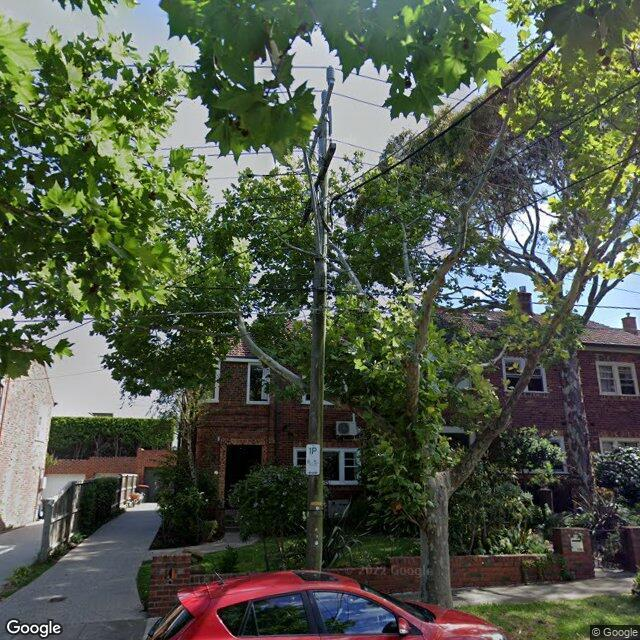HV-transmission: (322, 66, 334, 107)
crossarm: (300, 143, 336, 227), (309, 79, 334, 162)
streetlight: (266, 37, 322, 257)
timber-pole: (306, 117, 326, 571)
